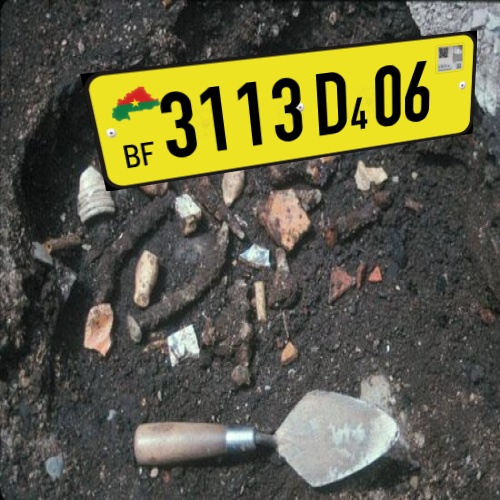plate: (67, 21, 485, 197)
